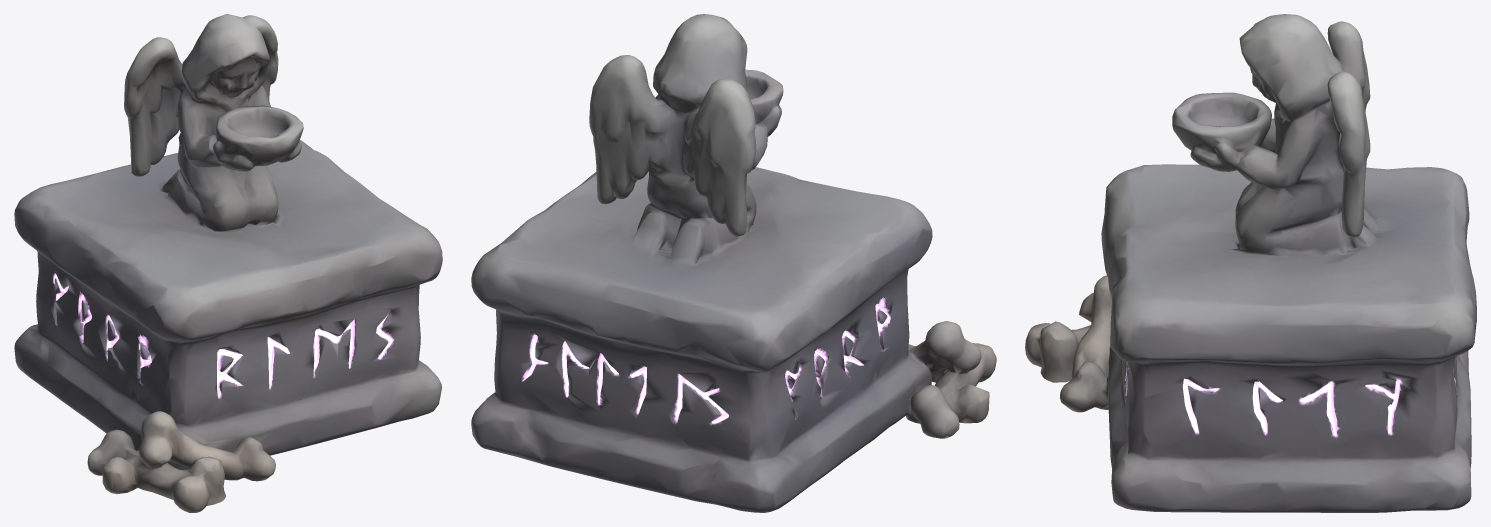
The model's file is ev_altar3-Cu0EMjmk.glb.
3 renders of one model, left to right at view 1: azimuth 30°, elevation 25°; view 2: azimuth 150°, elevation 25°; view 3: azimuth 270°, elevation 25°, orthographic. The views are drawn at different scales.
Visible parts, largest first — view 1: tripo_node_222ad210-dd35-4cf0-90f1-06b06666afe0; view 2: tripo_node_222ad210-dd35-4cf0-90f1-06b06666afe0; view 3: tripo_node_222ad210-dd35-4cf0-90f1-06b06666afe0.
Boxes of the visible parts, box(x1,y1,x2,y2) form: tripo_node_222ad210-dd35-4cf0-90f1-06b06666afe0: box(14, 14, 442, 512); tripo_node_222ad210-dd35-4cf0-90f1-06b06666afe0: box(471, 14, 996, 512); tripo_node_222ad210-dd35-4cf0-90f1-06b06666afe0: box(1025, 14, 1476, 512).
Size of the model in its own units: 3.11 by 3.3 by 3.18.
1 material, 1 textured.
